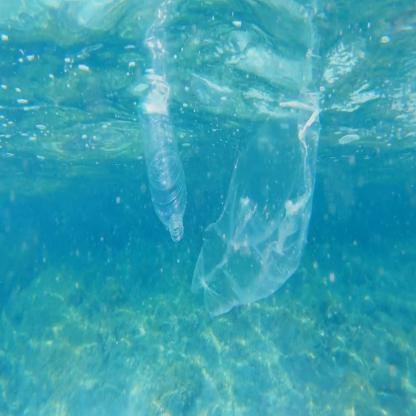Rác: (200, 122, 331, 304), (135, 107, 201, 243)
